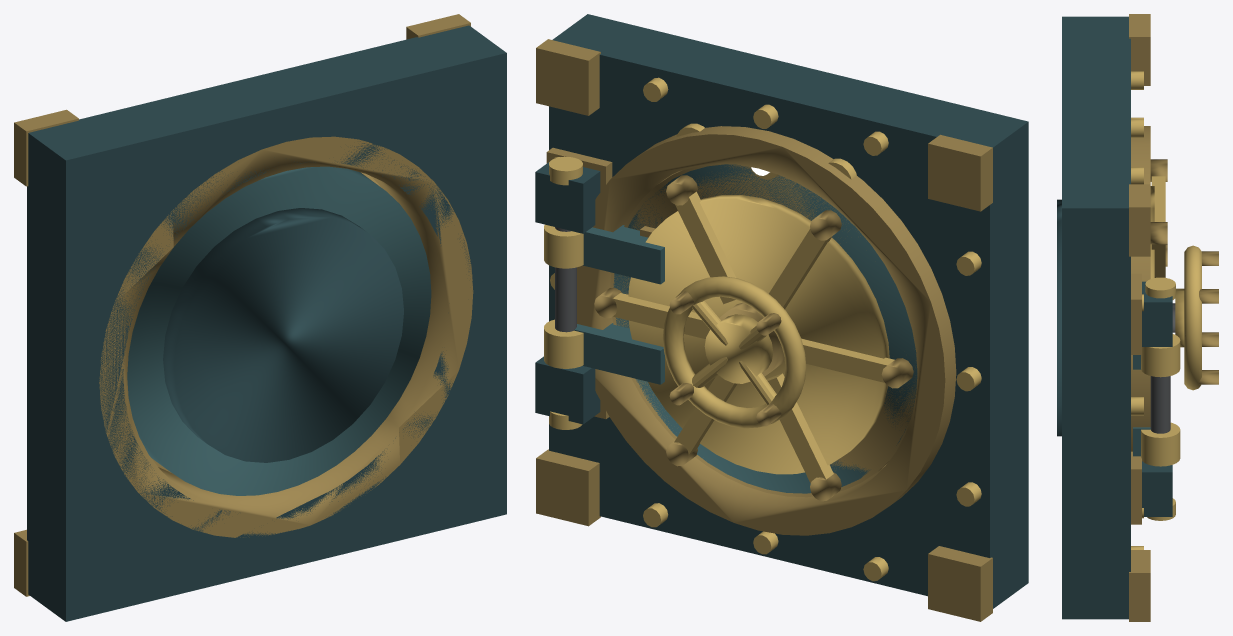
File: clockwork-vault.glb
3 views of the same model, side by side, from view 1: azimuth 30°, elevation 25°; view 2: azimuth 150°, elevation 25°; view 3: azimuth 270°, elevation 25° (orthographic). The views are drawn at different scales.
Visible parts, largest first — view 1: VaultBody__TealSteelDark, VaultDoor__TealSteelDark, VaultBody__AgedBrassDark, VaultDoor__TealSteel; view 2: VaultBody__TealSteelDark, VaultBody__AgedBrassDark, VaultDoor__AgedBrass, VaultDoor__TealSteel, VaultDoor__AgedBrassDark, VaultBody__AgedBrass, VaultBody__DarkSteel; view 3: VaultBody__TealSteelDark, VaultBody__AgedBrassDark, VaultBody__AgedBrass, VaultDoor__AgedBrass, VaultDoor__AgedBrassDark, VaultDoor__TealSteelDark, VaultBody__DarkSteel, VaultDoor__TealSteel.
Part boxes in pixels (<box>): VaultBody__TealSteelDark: <box>27,25,506,621</box>; VaultDoor__TealSteelDark: <box>163,208,403,462</box>; VaultBody__AgedBrassDark: <box>14,14,473,596</box>; VaultDoor__TealSteel: <box>127,166,431,495</box>; VaultBody__TealSteelDark: <box>535,14,1028,608</box>; VaultBody__AgedBrassDark: <box>536,39,992,621</box>; VaultDoor__AgedBrass: <box>613,191,894,483</box>; VaultDoor__TealSteel: <box>574,164,917,493</box>; VaultDoor__AgedBrassDark: <box>594,164,916,501</box>; VaultBody__AgedBrass: <box>544,77,981,581</box>; VaultBody__DarkSteel: <box>555,227,576,332</box>; VaultBody__TealSteelDark: <box>1062,16,1172,619</box>; VaultBody__AgedBrassDark: <box>1129,14,1150,621</box>; VaultBody__AgedBrass: <box>1131,71,1180,549</box>; VaultDoor__AgedBrass: <box>1150,176,1201,390</box>; VaultDoor__AgedBrassDark: <box>1150,159,1218,384</box>; VaultDoor__TealSteelDark: <box>1057,199,1061,436</box>; VaultBody__DarkSteel: <box>1150,376,1170,433</box>; VaultDoor__TealSteel: <box>1133,355,1150,456</box>.
Bounding box in the file's own units: 2 × 2 × 0.7069.
